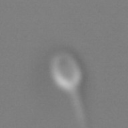normal: (67, 90, 95, 128)
